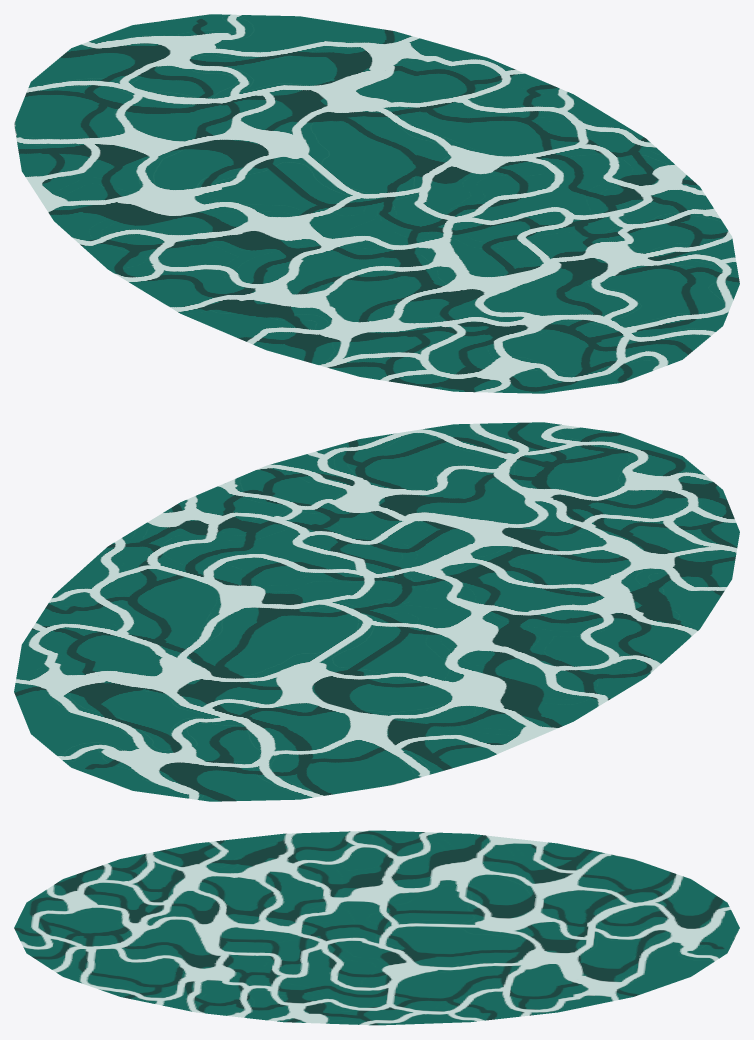
Rendered from water_final.fbx.
3 renders of one model, top to bottom at view 1: azimuth 30°, elevation 25°; view 2: azimuth 150°, elevation 25°; view 3: azimuth 270°, elevation 25°, orthographic. The views are drawn at different scales.
Parts seen in each view (by area): view 1: pDisc3; view 2: pDisc3; view 3: pDisc3.
Part boxes in pixels (x1,y1,x2,y2): pDisc3: [14, 14, 739, 393]; pDisc3: [14, 422, 739, 801]; pDisc3: [14, 830, 739, 1025].
Bounding box in the file's own units: 11.87 × 0 × 18.68.
